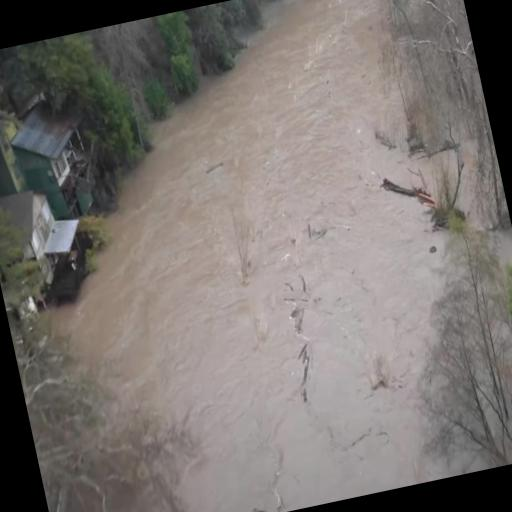flood: (32, 0, 490, 512), (489, 226, 512, 377), (454, 143, 485, 226), (430, 149, 458, 209)
house: (0, 180, 97, 312), (7, 102, 102, 210)
